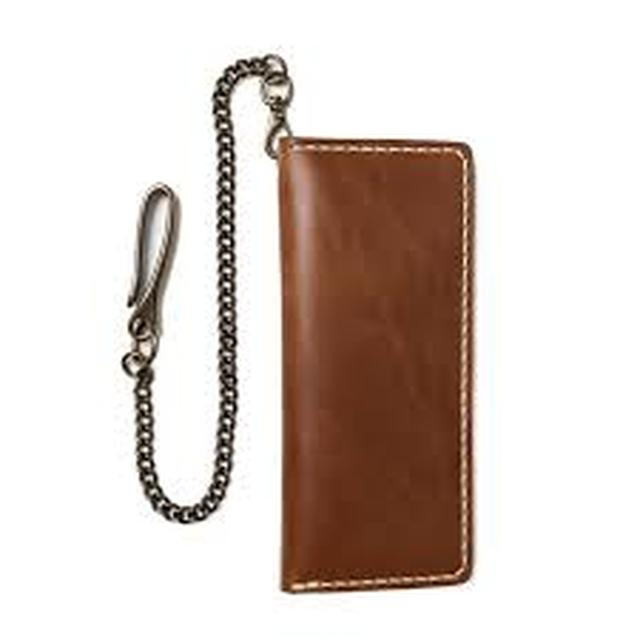wallet: (110, 29, 562, 615)
